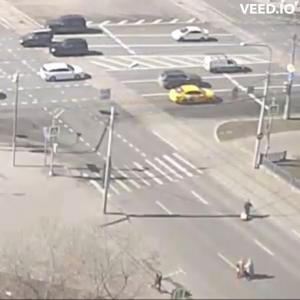car: (41, 64, 89, 84), (169, 85, 217, 105), (169, 26, 217, 44), (160, 71, 201, 92), (206, 54, 246, 75), (43, 19, 95, 35), (51, 39, 92, 59), (22, 31, 52, 50)
